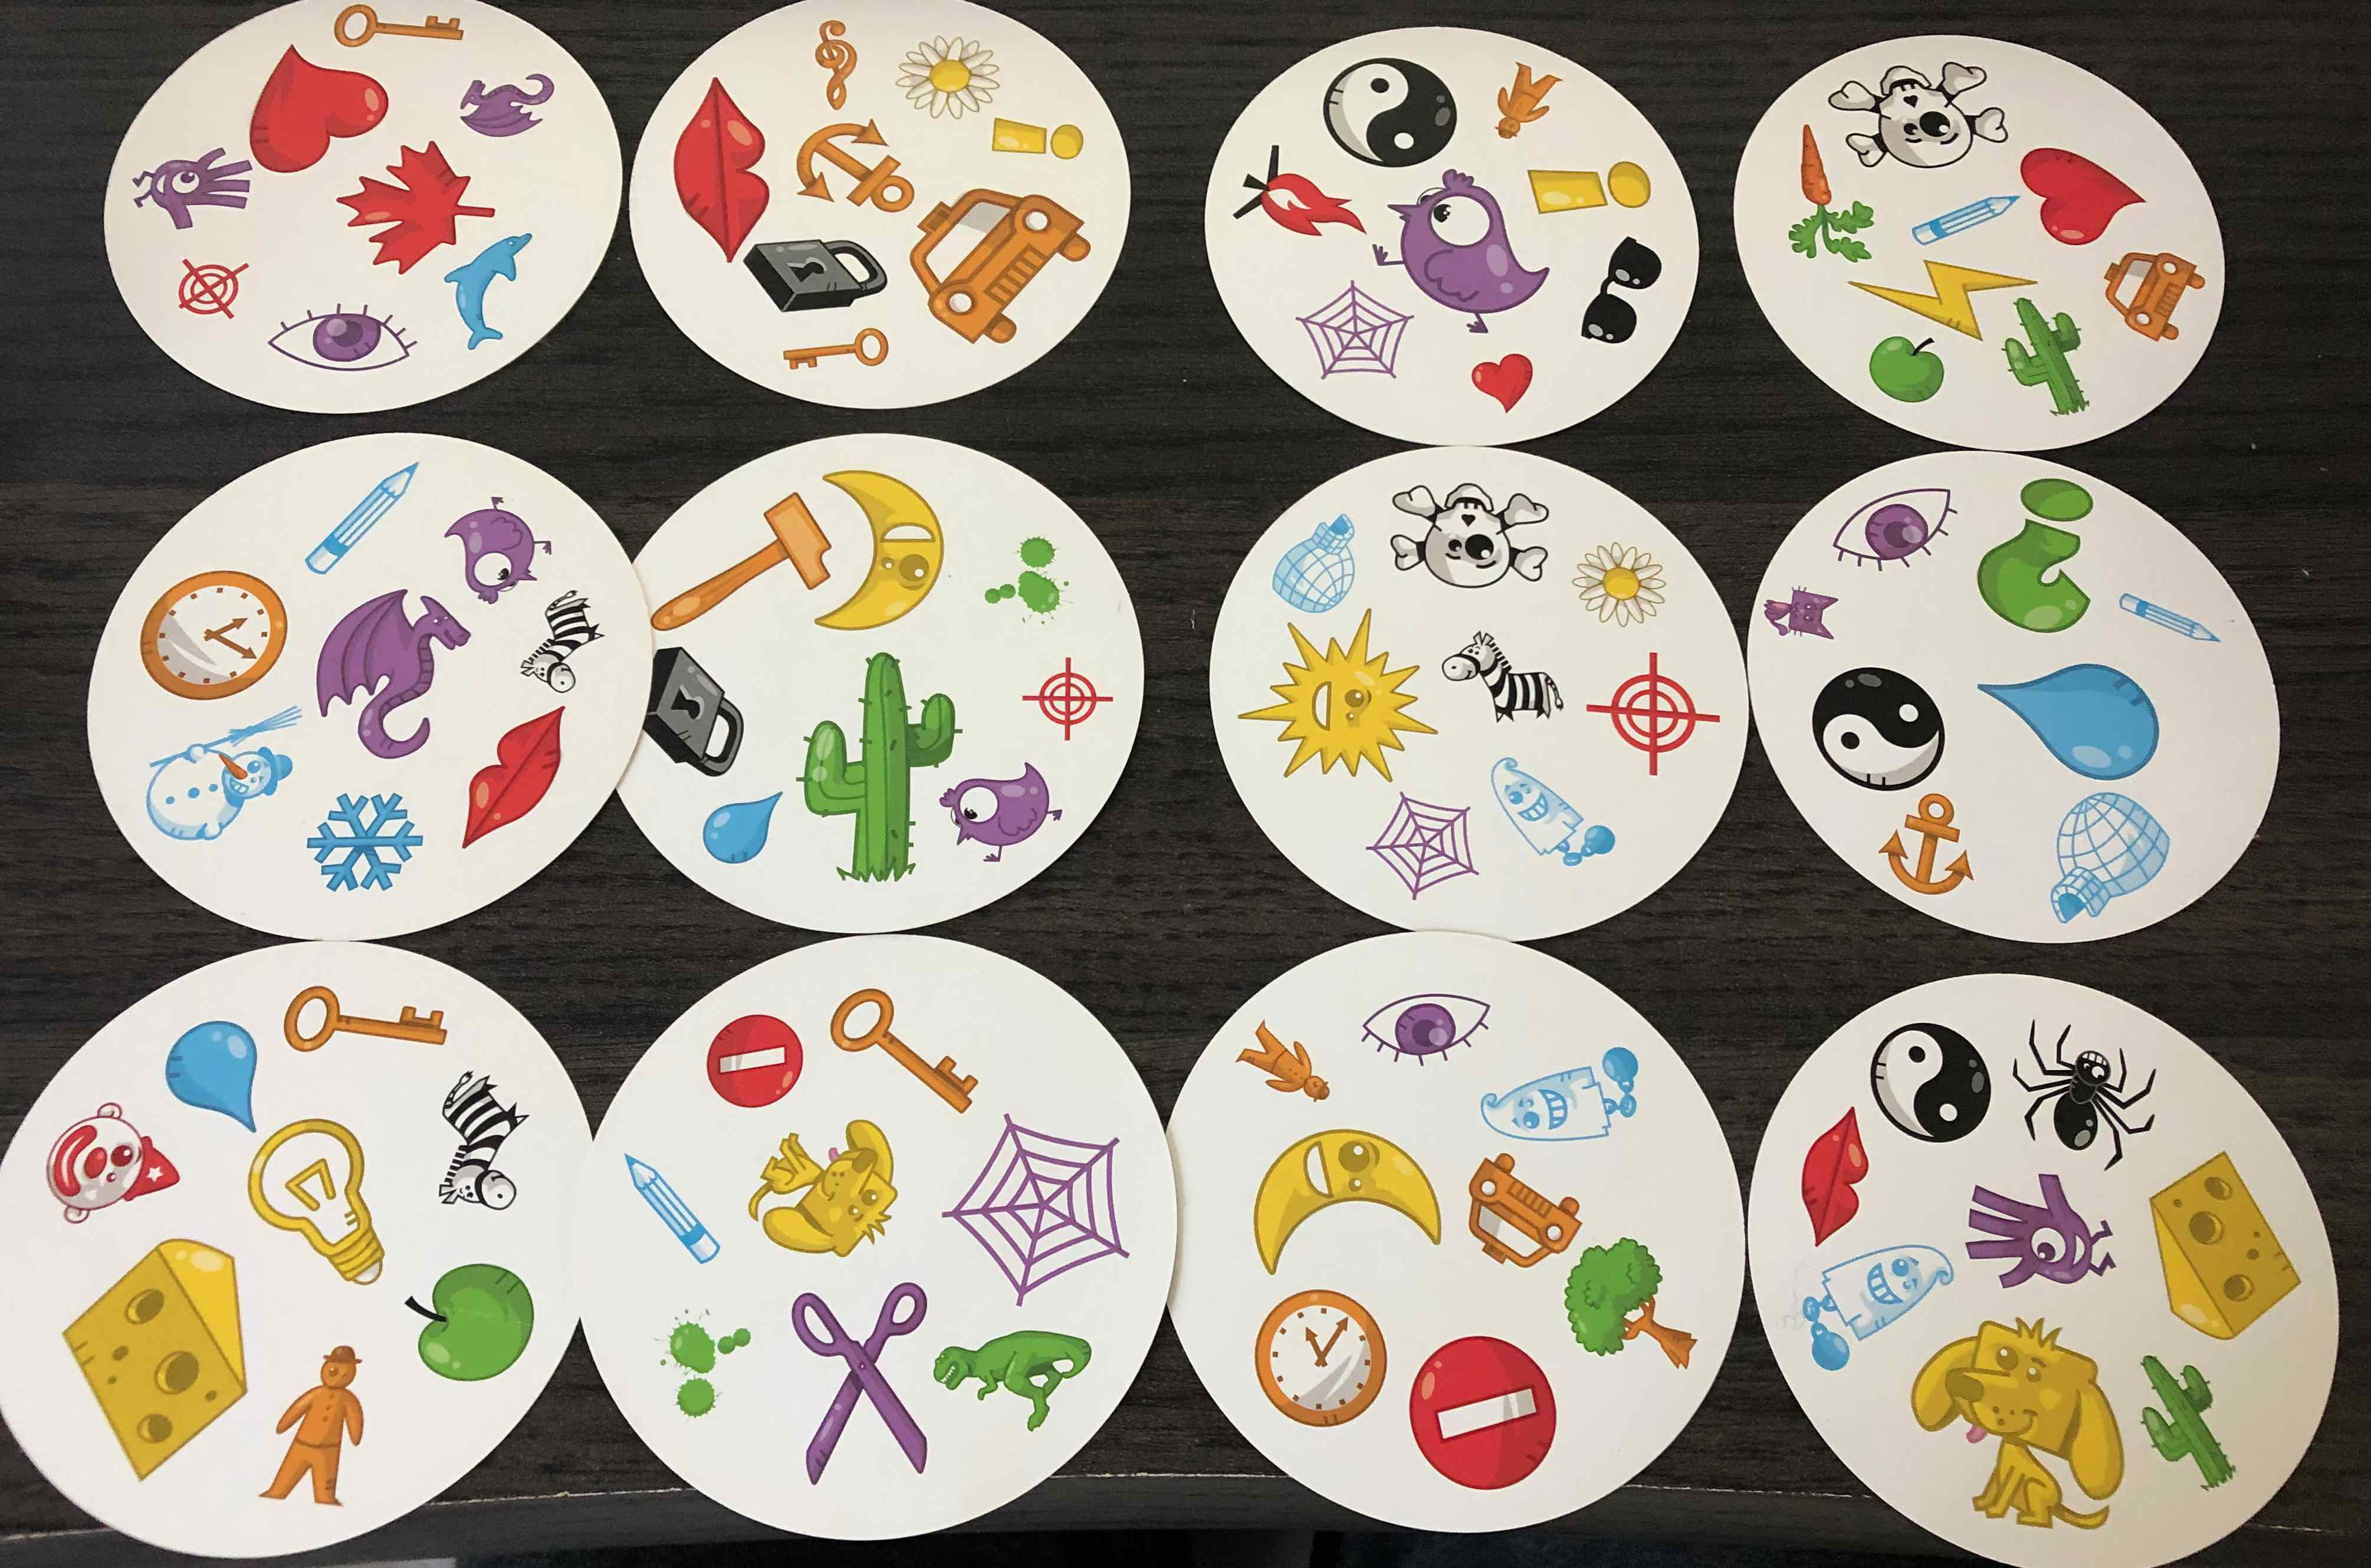ampoule: (245, 1109, 399, 1288)
ancre: (793, 117, 915, 219), (1874, 794, 1974, 898)
araignee: (2002, 1034, 2173, 1167)
arbre: (1554, 1228, 1704, 1375)
bonhomme: (255, 1342, 374, 1510), (1234, 1015, 1340, 1113), (1493, 56, 1564, 143)
bonhomme_neige: (142, 700, 297, 845)
bouche: (663, 66, 777, 266), (455, 698, 570, 850), (1792, 1115, 1872, 1253)
cactus: (796, 651, 959, 884), (2128, 1346, 2243, 1498), (1998, 292, 2096, 418)
cadenas: (628, 646, 747, 780), (742, 229, 887, 325)
carotte: (1783, 122, 1879, 268)
chat: (1762, 590, 1834, 640)
chien: (1899, 1325, 2131, 1543), (747, 1120, 912, 1265)
cible: (1585, 661, 1724, 773), (1018, 656, 1115, 742), (168, 248, 254, 327)
ciseau: (765, 1283, 947, 1479)
cle: (831, 985, 982, 1116), (278, 975, 455, 1071), (320, 0, 464, 51), (773, 324, 887, 381)
clown: (40, 1104, 175, 1227)
coeur: (255, 47, 383, 175), (2016, 138, 2147, 247), (1468, 353, 1531, 415)
crayon: (303, 471, 415, 583), (630, 1143, 717, 1276), (2109, 583, 2228, 651), (1906, 182, 2021, 243)
dauphin: (450, 227, 544, 357)
dinosore: (926, 1321, 1097, 1442)
dooble: (1960, 1169, 2119, 1293), (128, 140, 266, 236)
dragon: (318, 583, 479, 754), (458, 68, 556, 143)
eclair: (1843, 248, 2051, 343)
fantome: (1477, 752, 1626, 875), (1809, 1225, 1939, 1356), (1493, 1055, 1638, 1144)
feu: (1225, 140, 1370, 255)
feuille: (336, 147, 495, 289)
fleur: (880, 24, 1015, 122), (1577, 537, 1668, 632)
flocon: (304, 801, 437, 901)
fromage: (66, 1235, 257, 1468), (2135, 1150, 2305, 1349)
goutte: (1990, 658, 2166, 808), (164, 1017, 271, 1137), (698, 789, 782, 864)
horloge: (1256, 1290, 1396, 1435), (136, 570, 290, 698)
igloo: (2040, 794, 2175, 924), (1267, 513, 1363, 619)
lune: (1239, 1127, 1459, 1279), (812, 464, 945, 632)
lunette: (1577, 233, 1664, 348)
marteau: (644, 486, 831, 633)
note: (805, 12, 857, 110)
oeuil: (266, 297, 425, 373), (1354, 989, 1493, 1071), (1832, 485, 1960, 567)
oiseau: (1375, 177, 1550, 334), (437, 481, 556, 607), (940, 759, 1069, 870)
point_exclamation: (983, 115, 1090, 171)
point_interrogation: (1974, 479, 2095, 637), (1524, 152, 1654, 227)
pomme: (383, 1253, 544, 1388), (1864, 331, 1949, 404)
sens_interdit: (1409, 1326, 1563, 1486), (709, 1013, 843, 1118)
soleil: (1242, 625, 1445, 784)
tache: (660, 1307, 754, 1423), (976, 528, 1069, 625)
tete_mort: (1827, 56, 2011, 170), (1389, 467, 1550, 591)
toile: (945, 1118, 1132, 1307), (1361, 798, 1494, 899), (1293, 275, 1416, 383)
voiture: (908, 178, 1092, 343), (1454, 1148, 1610, 1272), (2093, 250, 2214, 343)
ying_yang: (1809, 658, 1944, 794), (1864, 1010, 1993, 1144), (1318, 54, 1463, 170)
zebre: (420, 1073, 535, 1221), (1435, 639, 1564, 745), (504, 577, 598, 693)
